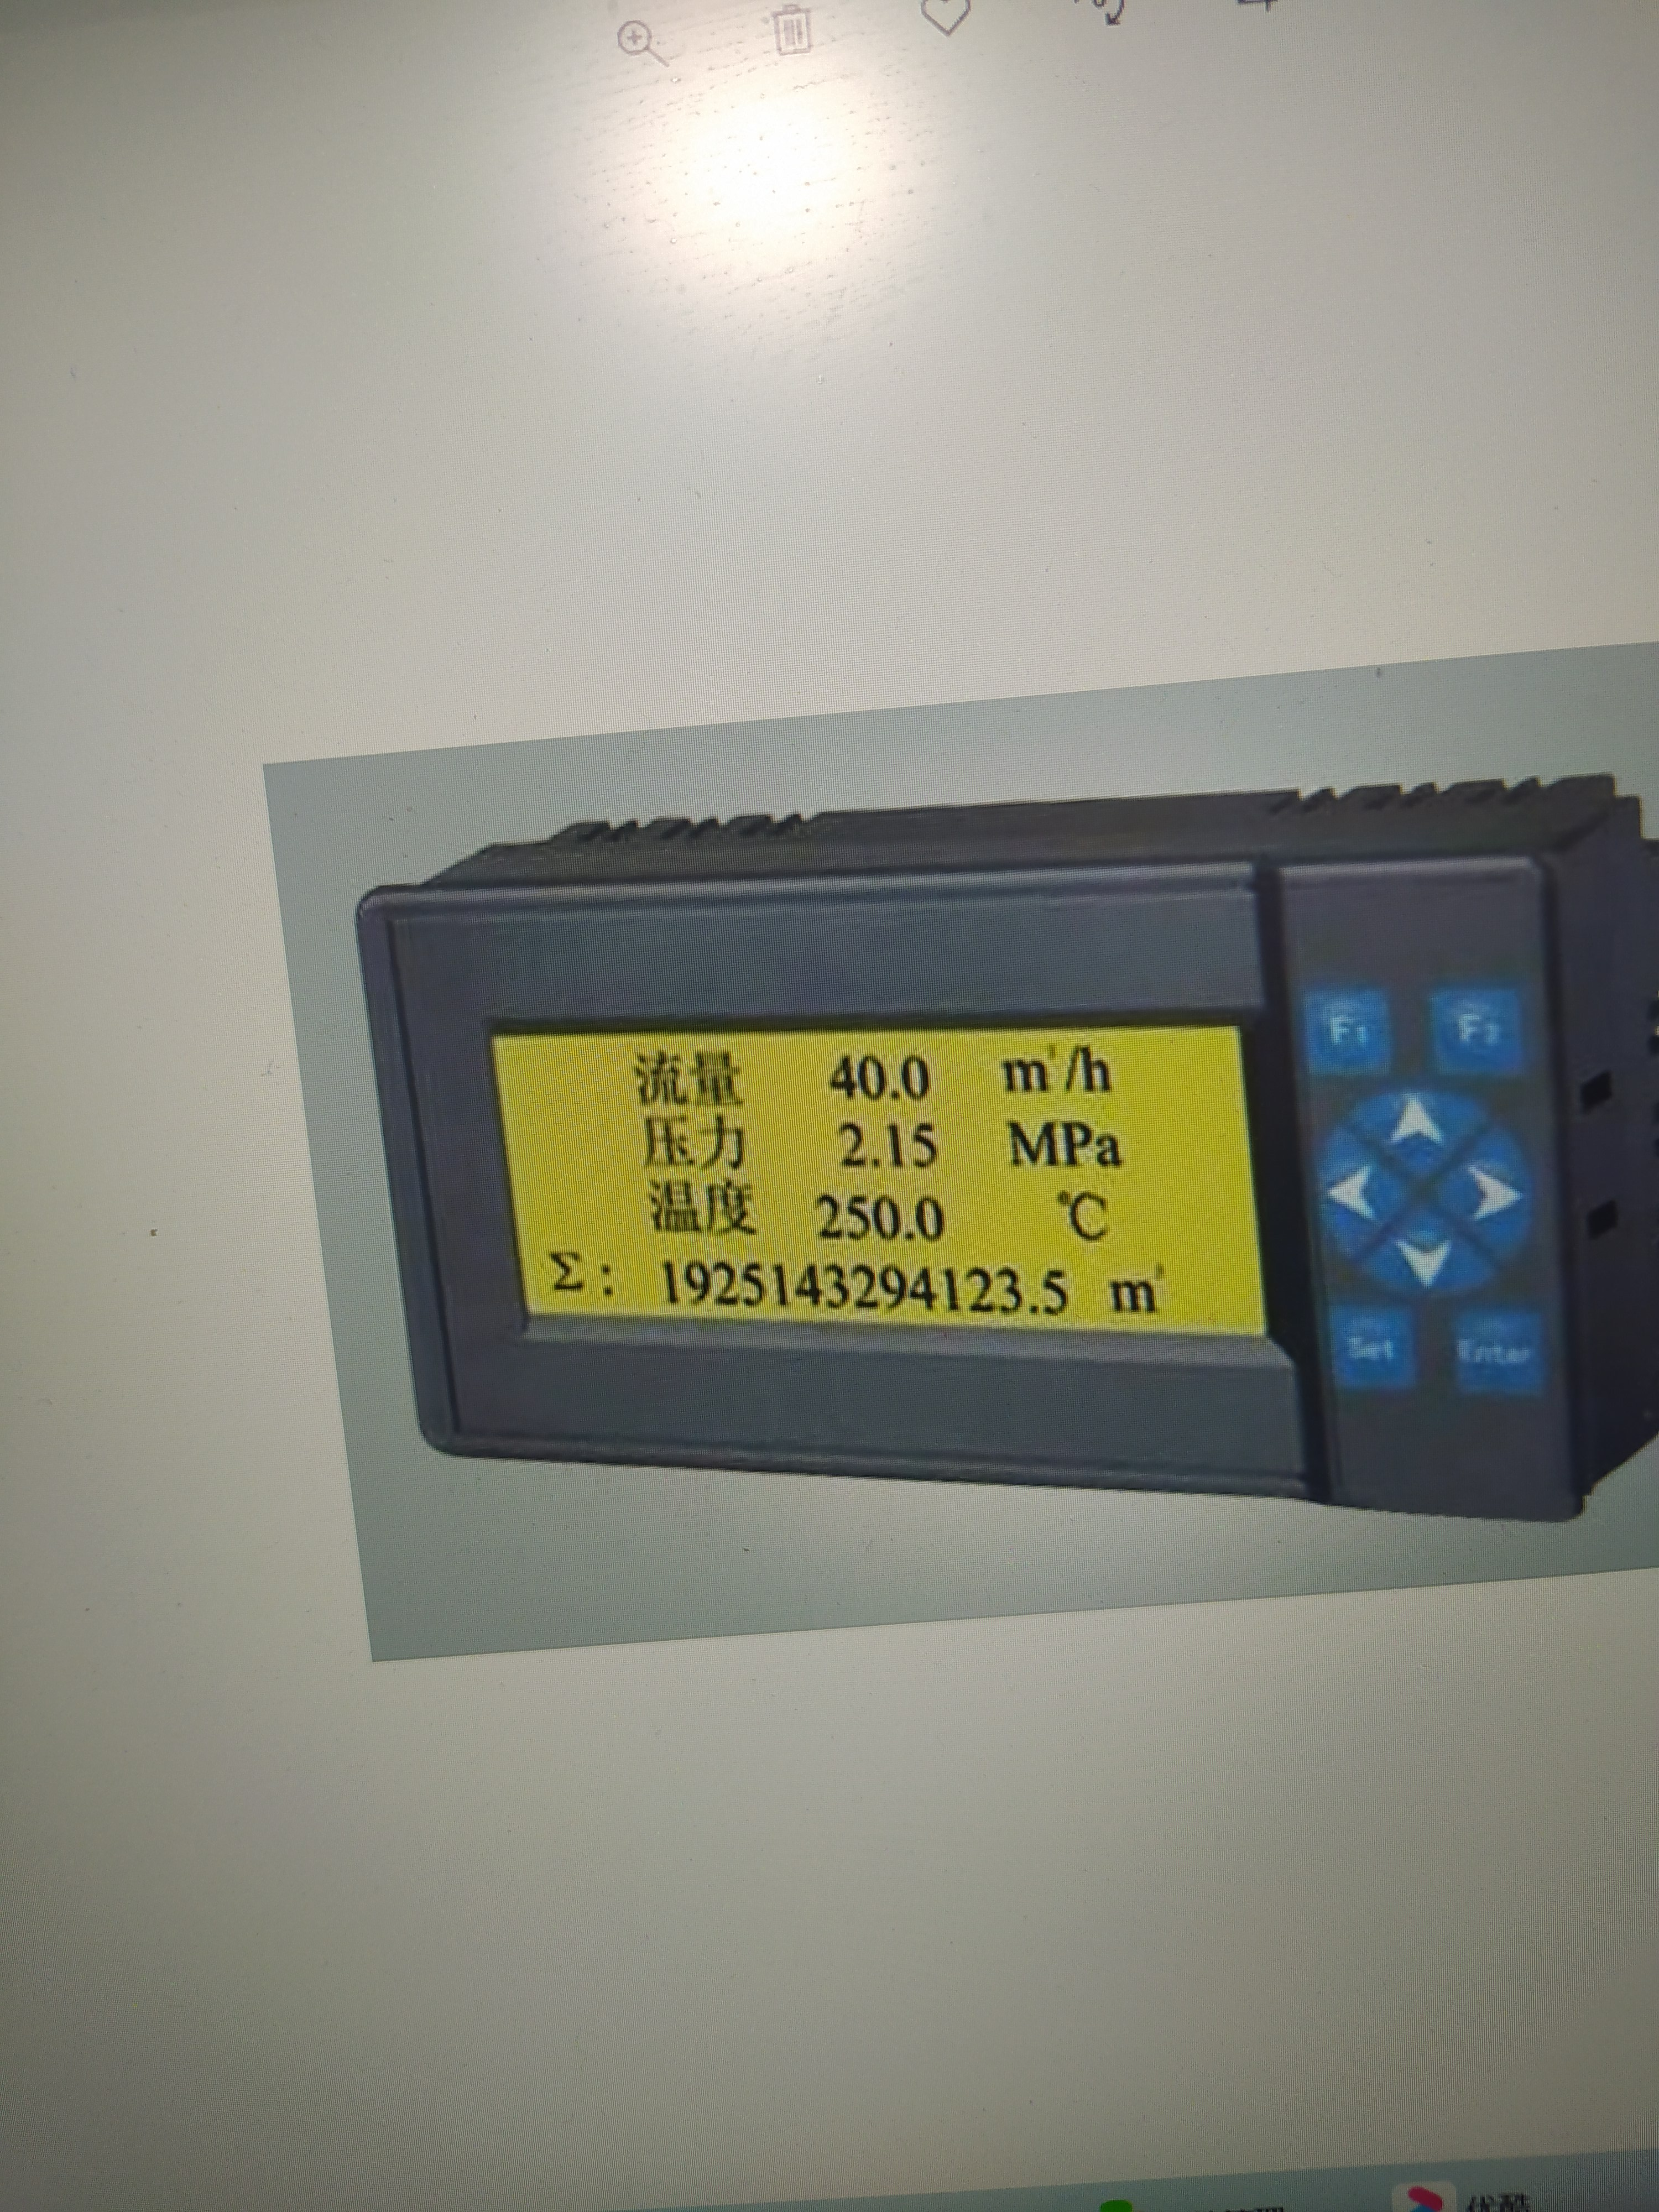.: (870, 1116, 885, 1174), (1030, 1256, 1042, 1329), (889, 1047, 903, 1108), (903, 1197, 915, 1249)
0: (857, 1049, 889, 1109), (870, 1195, 904, 1249), (903, 1047, 932, 1109), (917, 1193, 950, 1247)
1: (938, 1256, 967, 1332), (767, 1252, 796, 1320), (659, 1254, 681, 1313), (885, 1113, 904, 1176)
2: (965, 1258, 1000, 1329), (711, 1251, 742, 1322), (850, 1254, 882, 1324), (812, 1190, 850, 1245), (835, 1118, 871, 1170)
3: (997, 1256, 1026, 1327), (824, 1252, 850, 1322)
4: (908, 1251, 939, 1329), (796, 1249, 824, 1320), (828, 1050, 859, 1108)
5: (1037, 1254, 1079, 1332), (906, 1111, 945, 1177), (742, 1252, 767, 1318), (847, 1190, 873, 1247)
9: (880, 1252, 908, 1322), (685, 1252, 709, 1313)
